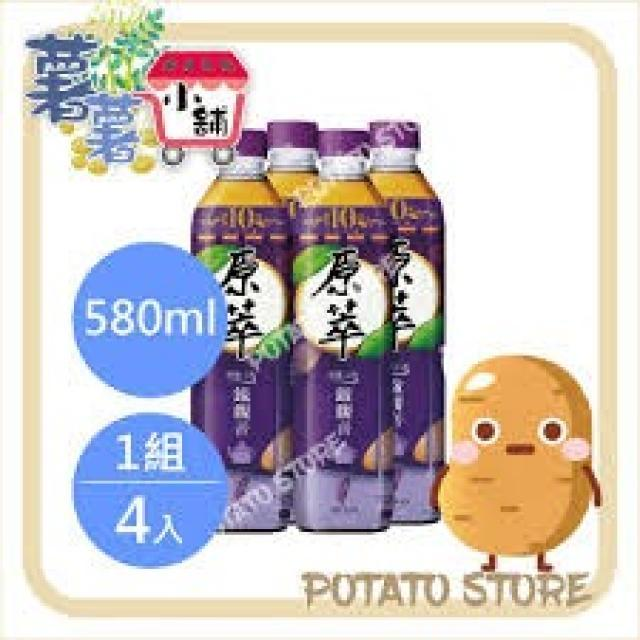YuanTsui_TieGuanYing: (292, 128, 398, 530), (188, 127, 288, 534)
